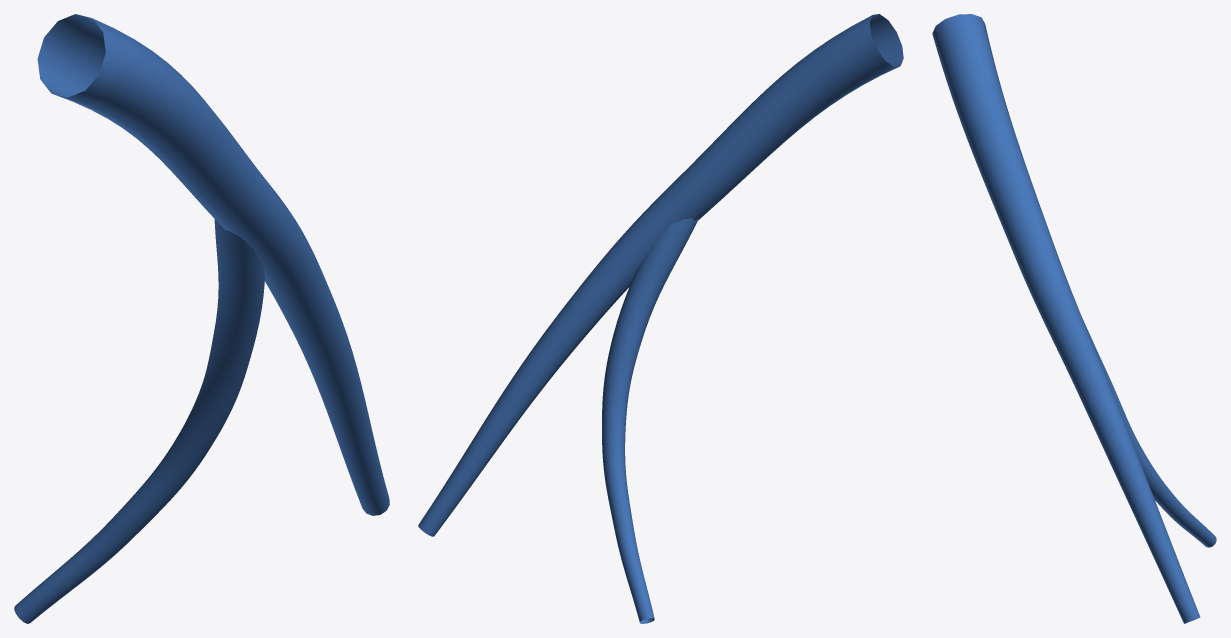
3 renders of one model, left to right at view 1: azimuth 30°, elevation 25°; view 2: azimuth 150°, elevation 25°; view 3: azimuth 270°, elevation 25°, orthographic. The views are drawn at different scales.
Visible parts, largest first — view 1: 左肺上舌静脉; view 2: 左肺上舌静脉; view 3: 左肺上舌静脉.
Part boxes in pixels (bbox=[...]): 左肺上舌静脉: bbox=[14, 14, 389, 623]; 左肺上舌静脉: bbox=[418, 14, 903, 623]; 左肺上舌静脉: bbox=[932, 14, 1216, 623].
Bounding box in the file's own units: 0.0618 × 0.0885 × 0.0465.
